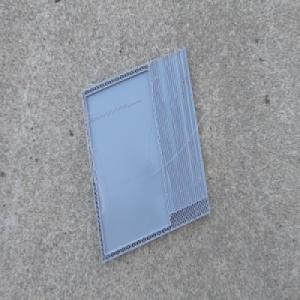PlasticPart: (79, 45, 212, 265)
